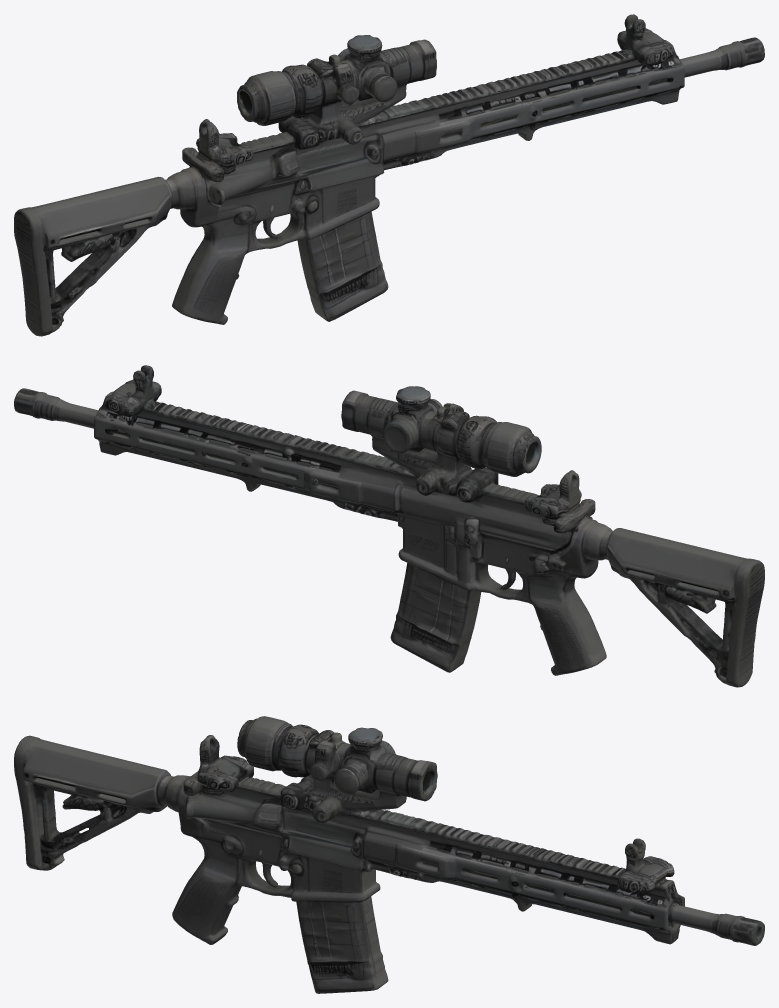
3 renders of one model, top to bottom at view 1: azimuth 30°, elevation 25°; view 2: azimuth 150°, elevation 25°; view 3: azimuth 330°, elevation 25°, orthographic.
Visible parts, largest first — view 1: tripo_node_b2b24ec2-d869-41fa-99cf-e0f139a55303; view 2: tripo_node_b2b24ec2-d869-41fa-99cf-e0f139a55303; view 3: tripo_node_b2b24ec2-d869-41fa-99cf-e0f139a55303.
Part boxes in pixels (<box>): tripo_node_b2b24ec2-d869-41fa-99cf-e0f139a55303: <box>14,14,764,336</box>; tripo_node_b2b24ec2-d869-41fa-99cf-e0f139a55303: <box>14,365,764,687</box>; tripo_node_b2b24ec2-d869-41fa-99cf-e0f139a55303: <box>14,716,764,993</box>.
Size of the model in its own units: 0.9999 by 0.3464 by 0.0943.
1 material, 1 textured.
